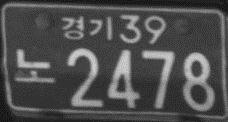2: (66, 46, 103, 108)
3: (118, 13, 141, 45)
4: (106, 48, 140, 108)
7: (141, 49, 174, 109)
8: (181, 50, 215, 113)
9: (143, 14, 166, 44)
경기_O: (60, 15, 114, 41)
노: (12, 48, 55, 85)
